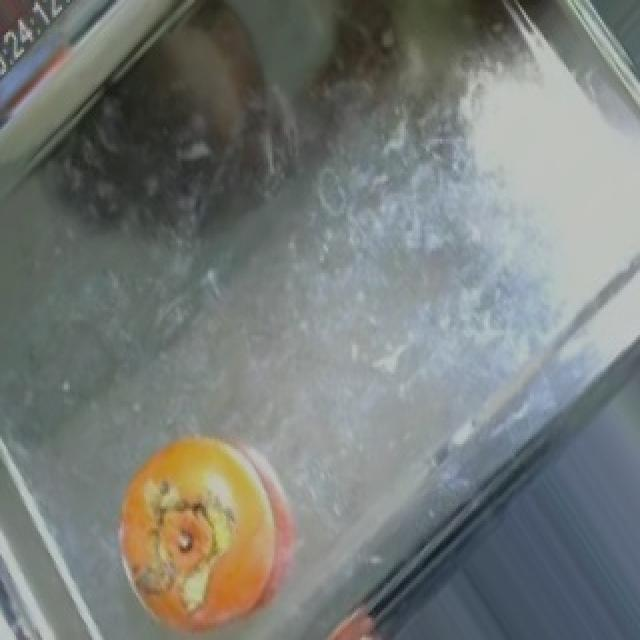Fruit: (100, 414, 310, 640), (284, 598, 434, 640)
